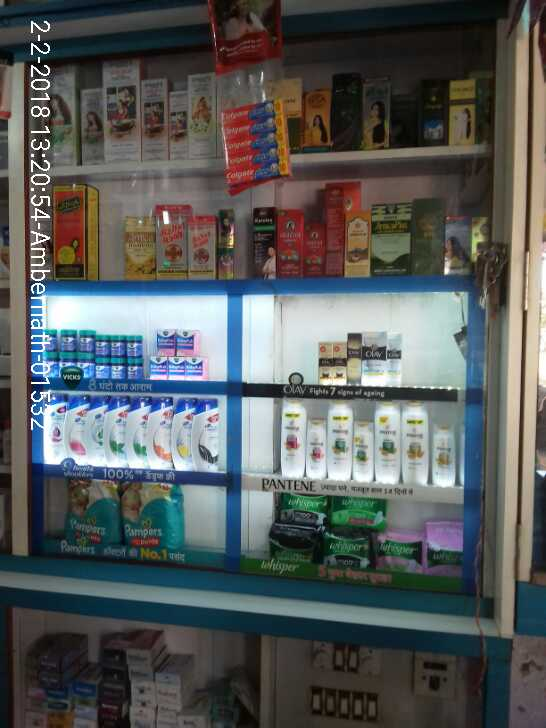vicks: (34, 325, 211, 384)
